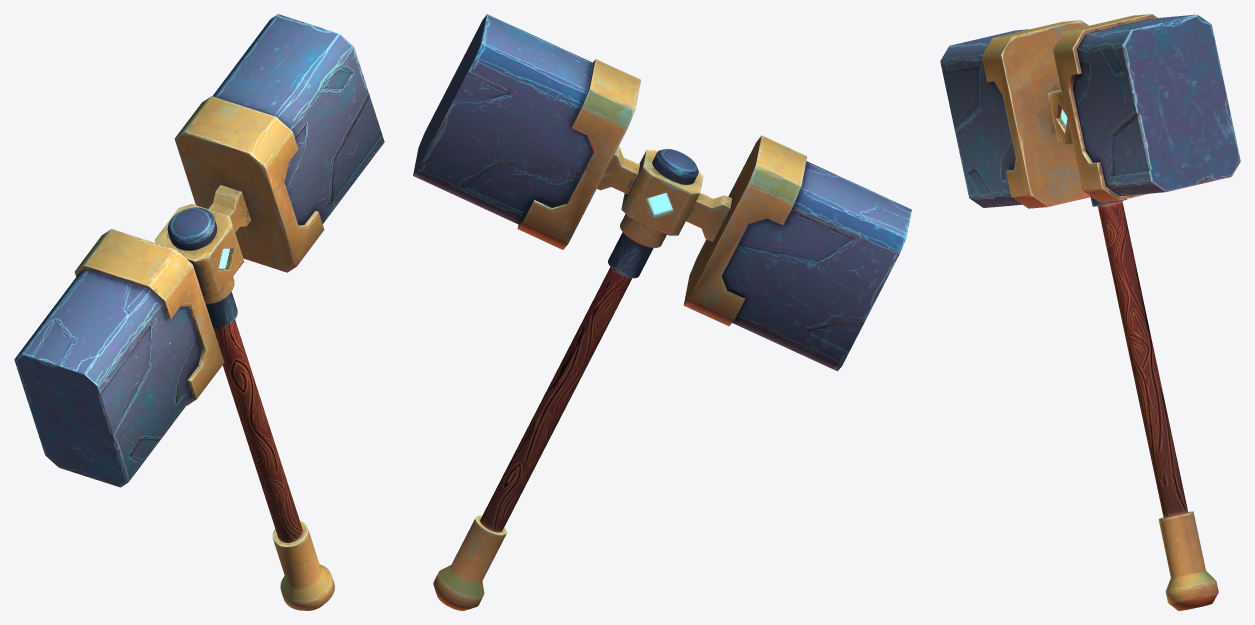
Rendered from asset.glb.
3 renders of one model, left to right at view 1: azimuth 30°, elevation 25°; view 2: azimuth 150°, elevation 25°; view 3: azimuth 270°, elevation 25°, orthographic. The views are drawn at different scales.
Visible parts, largest first — view 1: 3_low, 4_low, 5_low, 6_low, 1_low, 9_low, 2_low, 7_low; view 2: 3_low, 4_low, 5_low, 1_low, 6_low, 2_low, 7_low, 9_low, 8_low; view 3: 3_low, 4_low, 5_low, 6_low, 1_low.
Boxes of the visible parts, box(x1,y1,x2,y2) form: 3_low: box(14, 14, 384, 487); 4_low: box(74, 96, 324, 405); 5_low: box(213, 320, 302, 542); 6_low: box(272, 521, 334, 610); 1_low: box(154, 204, 244, 297); 9_low: box(167, 207, 217, 250); 2_low: box(208, 185, 251, 232); 7_low: box(205, 292, 237, 328); 3_low: box(413, 14, 911, 371); 4_low: box(517, 59, 807, 326); 5_low: box(480, 267, 632, 532); 1_low: box(621, 149, 703, 235); 6_low: box(433, 515, 507, 610); 2_low: box(597, 146, 732, 241); 7_low: box(608, 232, 653, 278); 9_low: box(652, 149, 698, 184); 8_low: box(620, 214, 666, 247); 3_low: box(940, 14, 1240, 207); 4_low: box(982, 14, 1157, 208); 5_low: box(1097, 201, 1188, 517); 6_low: box(1158, 511, 1218, 610); 1_low: box(1047, 89, 1072, 144).
Size of the model in its own units: 0.5762 by 0.7601 by 0.3544.
Materials: 1 (1 with a texture image).
